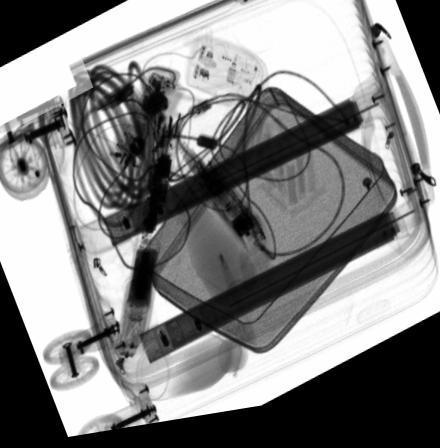Baton: (116, 139, 180, 363)
